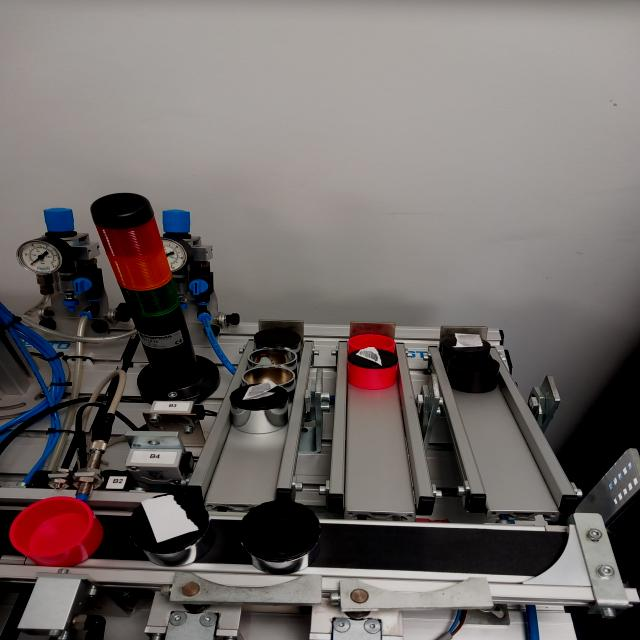NoLid: (1, 493, 111, 572), (441, 354, 514, 390), (239, 363, 295, 383), (348, 328, 397, 350), (250, 347, 297, 365)
Workpiece: (233, 495, 337, 569), (252, 322, 301, 356)
